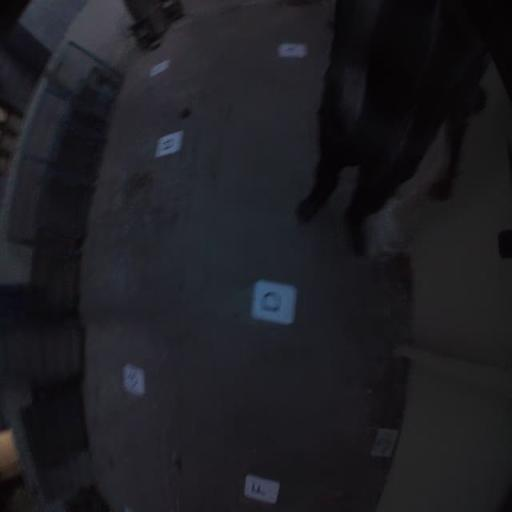D: (250, 280, 297, 324), (154, 129, 184, 159), (122, 362, 144, 396), (278, 42, 308, 58)
E: (370, 426, 399, 458)
F: (242, 474, 280, 504)
